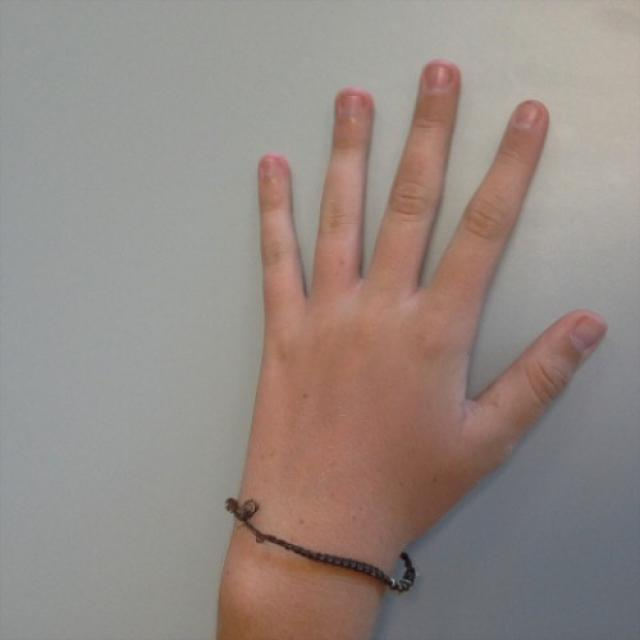paper: (258, 60, 605, 502)
